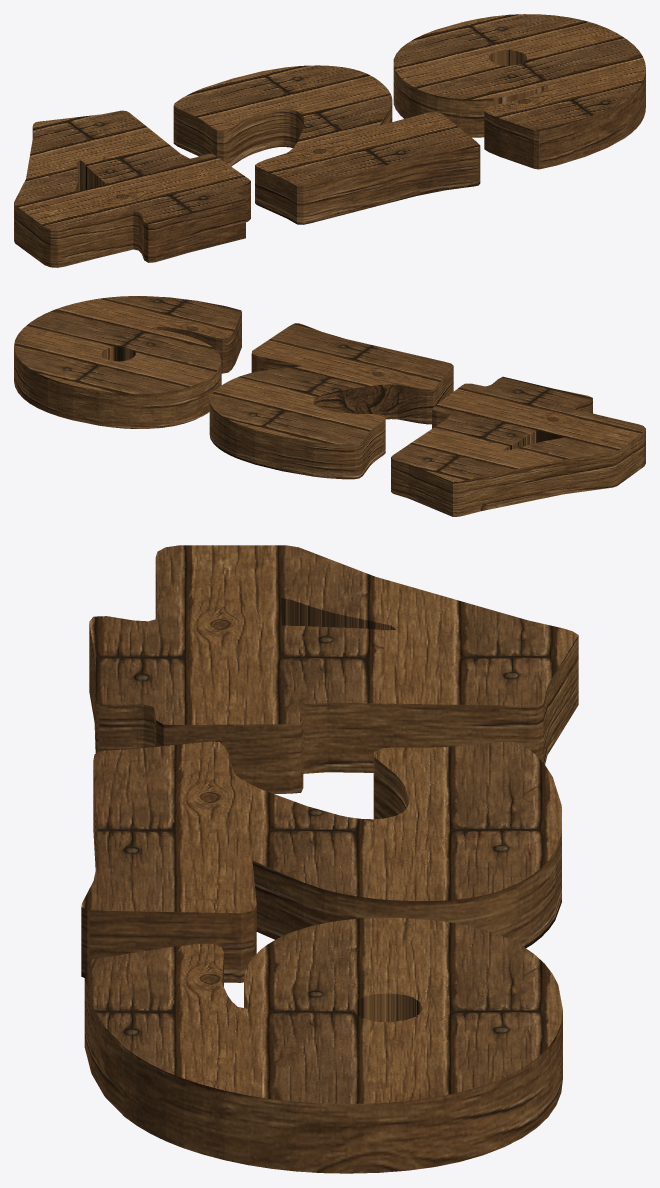
The picture shows the model from 3 angles, top to bottom: view 1: azimuth 30°, elevation 25°; view 2: azimuth 150°, elevation 25°; view 3: azimuth 270°, elevation 25°; orthographic projection. The views are drawn at different scales.
Visible parts, largest first — view 1: 2, 9, 4; view 2: 2, 9, 4; view 3: 9, 4, 2.
Part boxes in pixels (x1,y1,x2,y2): 2: (173,65,480,224); 9: (393,14,645,169); 4: (14,110,250,267); 2: (209,323,453,479); 9: (14,296,241,428); 4: (391,376,645,516); 9: (84,918,562,1173); 4: (89,545,578,793); 2: (81,741,561,982).
Bounding box in the file's own units: 139 × 8.07 × 52.28.
